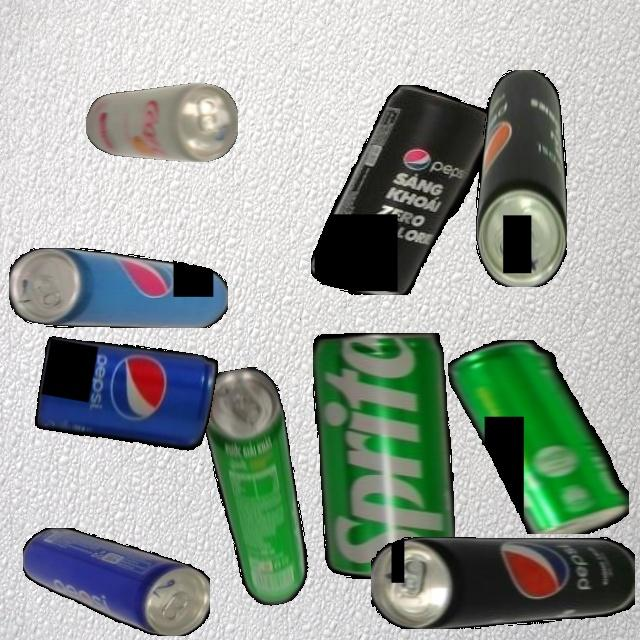debris: (311, 84, 494, 295), (448, 339, 629, 534), (312, 333, 455, 579), (196, 363, 317, 611), (371, 536, 635, 629), (32, 329, 219, 457), (22, 528, 210, 636), (475, 69, 567, 287), (9, 247, 228, 328), (85, 83, 238, 162)
